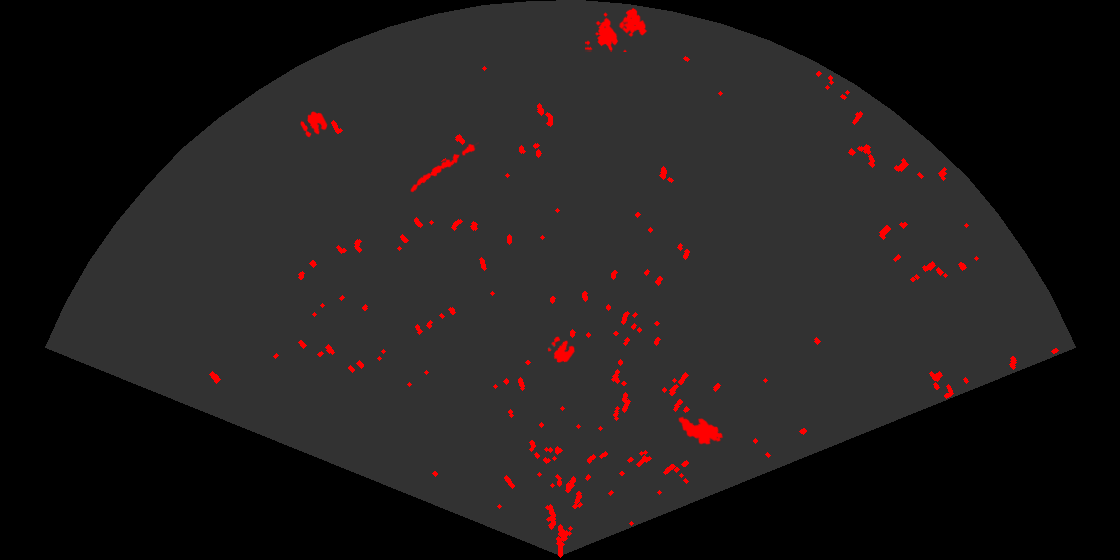AUV: (677, 415, 725, 446)
ball: (299, 110, 329, 139), (546, 335, 576, 364)
cage: (585, 6, 649, 52)
chain: (409, 140, 479, 194)
